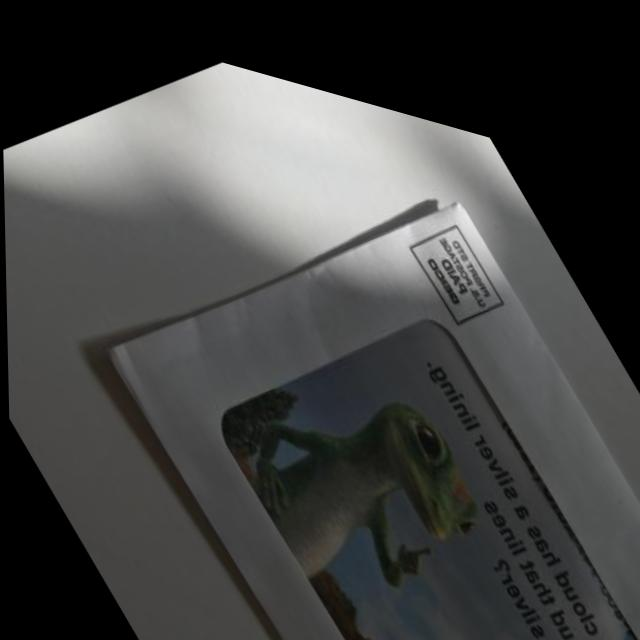paper: (52, 56, 640, 640)
